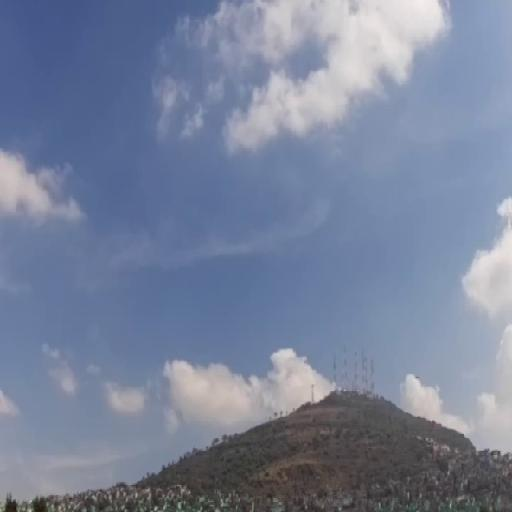drones: (414, 371, 422, 391)
